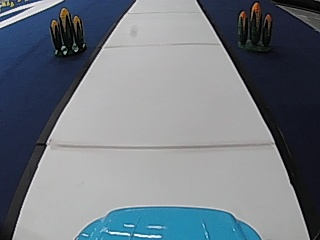corn: (48, 4, 87, 56), (234, 1, 274, 51)
